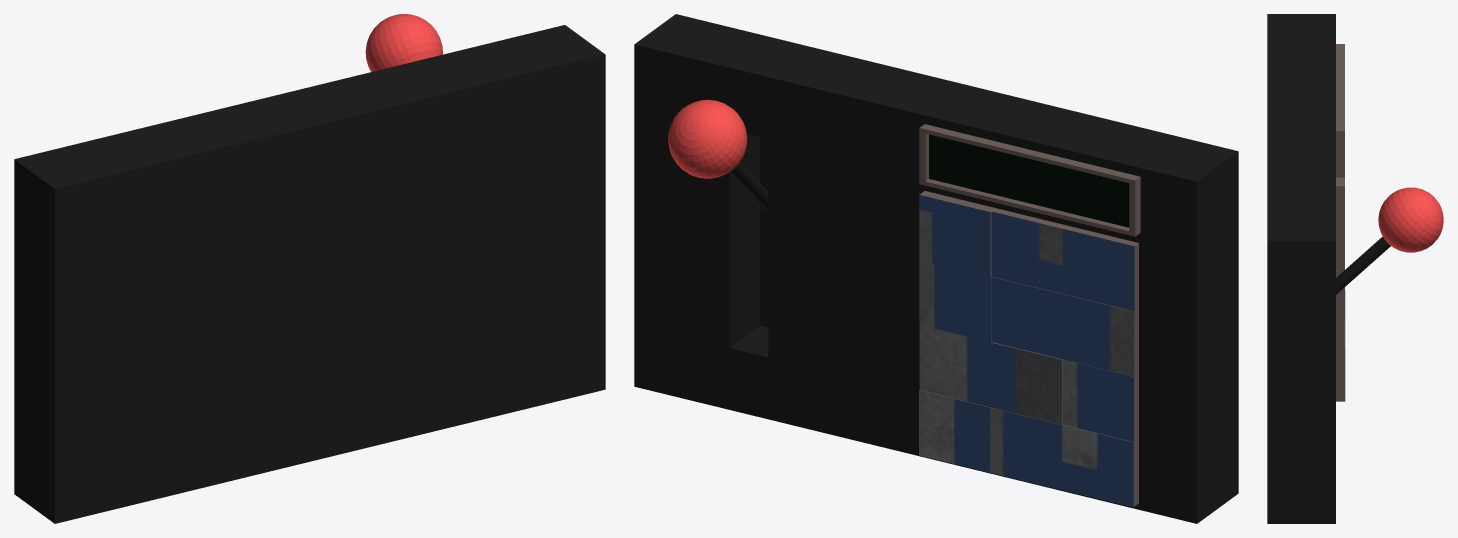
The model's file is Numpad.fbx.
3 views of the same model, side by side, from view 1: azimuth 30°, elevation 25°; view 2: azimuth 150°, elevation 25°; view 3: azimuth 270°, elevation 25° (orthographic). The views are drawn at different scales.
Parts seen in each view (by area): view 1: LeverArmPlate.003; view 2: LeverArmPlate.003; view 3: LeverArmPlate.003.
Boxes of the visible parts, x1,y1,x2,y2 form: LeverArmPlate.003: (14,14,605,523); LeverArmPlate.003: (634,14,1238,523); LeverArmPlate.003: (1267,14,1443,523).
Bounding box in the file's own units: 78.1 × 45.82 × 25.67.
